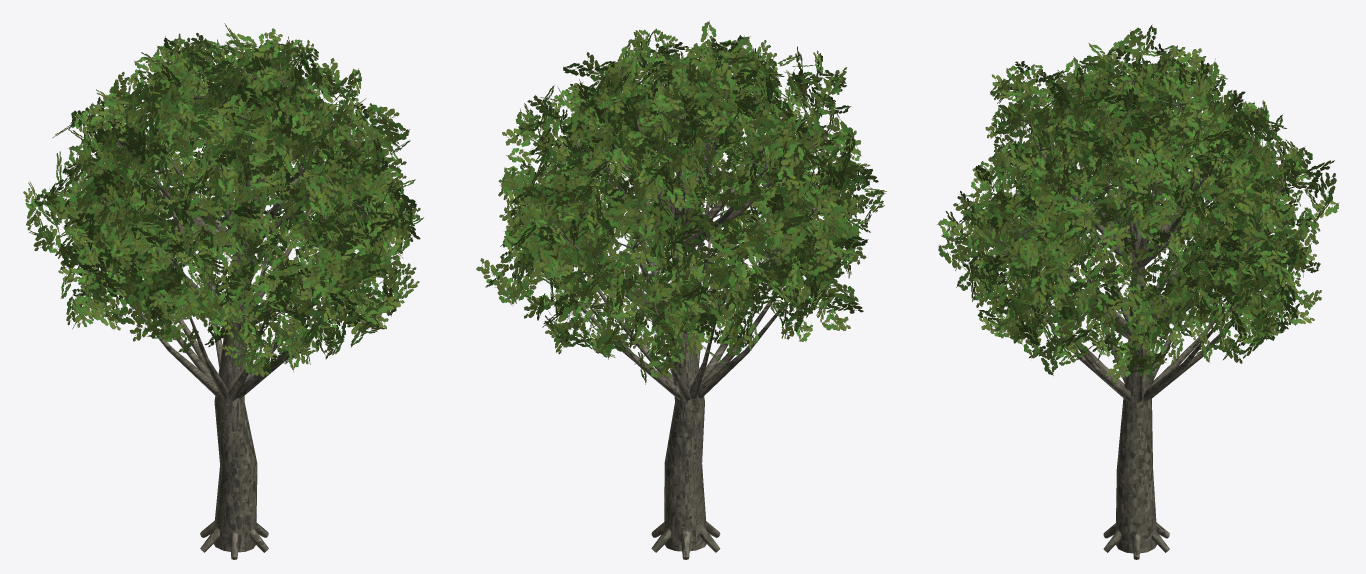
File: G2_police_large-iedrLkVa.glb
The picture shows the model from 3 angles, left to right: view 1: azimuth 30°, elevation 25°; view 2: azimuth 150°, elevation 25°; view 3: azimuth 270°, elevation 25°; orthographic projection. The views are drawn at different scales.
Parts seen in each view (by area): view 1: G2_police_large_foliage, G2_police_large_branches; view 2: G2_police_large_foliage, G2_police_large_branches; view 3: G2_police_large_foliage, G2_police_large_branches.
Boxes of the visible parts, bbox=[...] form: G2_police_large_foliage: bbox=[23, 23, 423, 376]; G2_police_large_branches: bbox=[54, 48, 394, 559]; G2_police_large_foliage: bbox=[476, 20, 886, 384]; G2_police_large_branches: bbox=[520, 50, 850, 559]; G2_police_large_foliage: bbox=[937, 24, 1339, 383]; G2_police_large_branches: bbox=[986, 74, 1303, 559].
Bounding box in the file's own units: 8.83 × 11.84 × 9.2.
2 materials, 2 textured.
